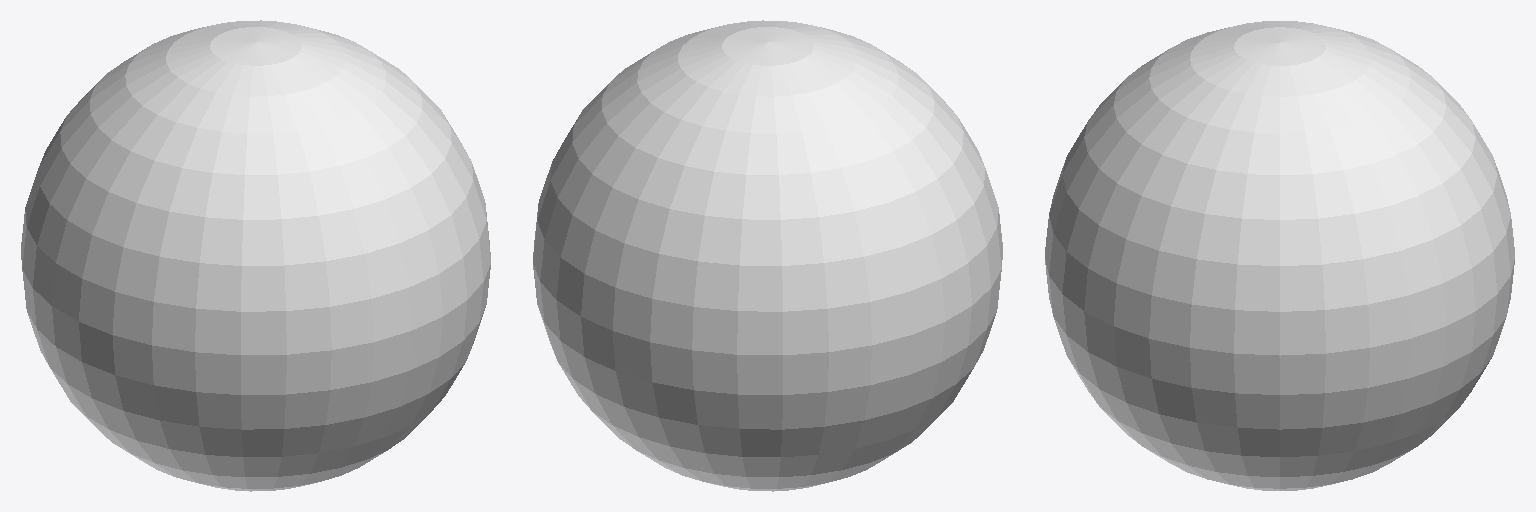
robot.urdf — tmp:
<robot name="tmp">
  <material name="RAL_9003_Signal_White">
    <color rgba="0.941 0.941 0.941 1" />
  </material>
  <material name="RAL_9005_Jet_Black">
    <color rgba="0.055 0.055 0.063 1" />
  </material>

  <link name="tmp_link">
    <visual>
      <origin
        xyz="0 0 0"
        rpy="0 0 0" />
      <geometry>
        <mesh
          filename="meshes/left_hand_link.STL"/>
      </geometry>
      <material name="RAL_9005_Jet_Black"/>
    </visual>
  </link>


  <joint name="tmp_joint" type="fixed">
    <parent link="tmp_link"/>
    <child link="marker"/>
    <origin rpy="0 0 0" xyz="0 0 -0.005"/>
  </joint>
  <link name="marker">
    <visual>
    <origin xyz="0 0 0" rpy="0 0 0"/>
    <geometry>
      <sphere radius="0.0002"/>
    </geometry>
    <material name="RAL_9003_Signal_White"/>
    </visual>
  </link>

</robot>

--- Render facts (derived) ---
Views: 3 orthographic renders of the robot side by side, from view 1: azimuth 30°, elevation 25°; view 2: azimuth 150°, elevation 25°; view 3: azimuth 270°, elevation 25°.
Robot: tmp — 2 links, 1 joints (1 fixed); root link tmp_link; default pose: every joint at zero.
Links seen in each view (by area): view 1: marker; view 2: marker; view 3: marker.
Link boxes in pixels (x1,y1,x2,y2): marker: (21, 20, 490, 491); marker: (533, 20, 1002, 491); marker: (1045, 21, 1514, 490).
Size in the robot's own frame: 0.0004 by 0.0004 by 0.0004 metres.
0 mesh visuals loaded from 1 distinct referenced files (none loaded); not drawn: 1 (reference not matched to a file when rendering).
